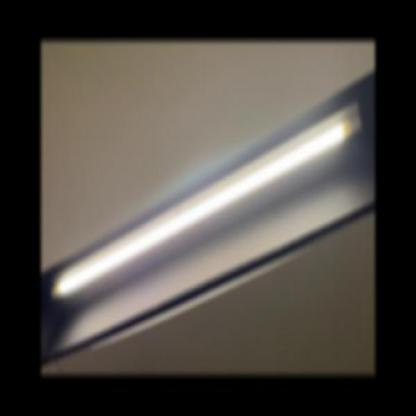light_on: (46, 95, 368, 303)
